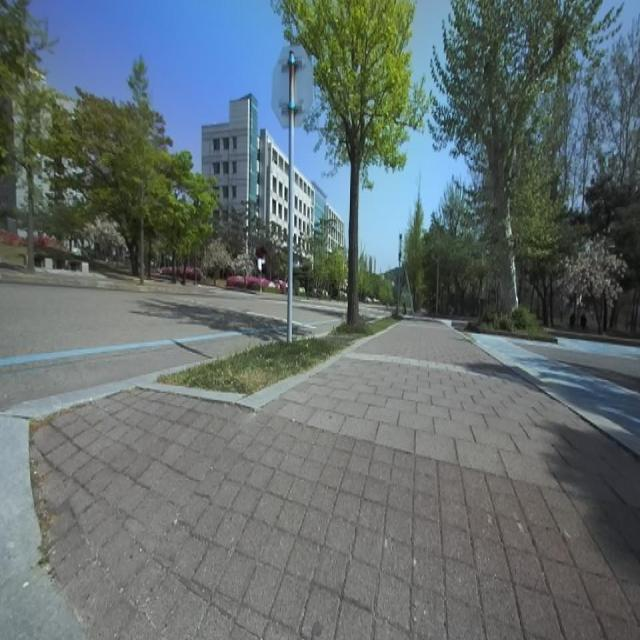sidewalk: (29, 322, 640, 639)
